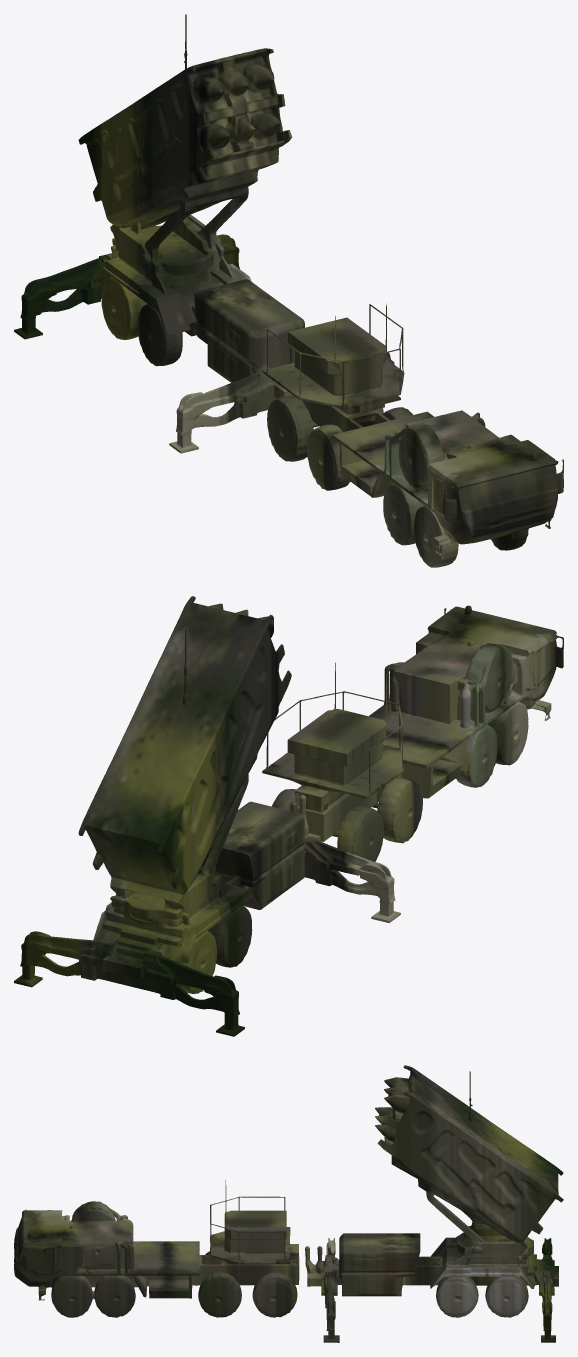
Rendered from large_launcher_patriot_chenzoss.glb.
3 views of the same model, one above another, from view 1: azimuth 30°, elevation 25°; view 2: azimuth 150°, elevation 25°; view 3: azimuth 270°, elevation 25° (orthographic). The views are drawn at different scales.
Visible parts, largest first — view 1: part_1, part_0; view 2: part_1, part_0; view 3: part_1, part_0.
Boxes of the visible parts, x1,y1,x2,y2 form: part_1: (22,14,400,453); part_0: (14,14,563,567); part_1: (14,596,400,1036); part_0: (95,605,563,1036); part_1: (305,1065,563,1342); part_0: (14,1065,560,1317).
Size of the model in its own units: 0.3227 by 0.4698 by 1.
Materials: 1 (1 with a texture image).
